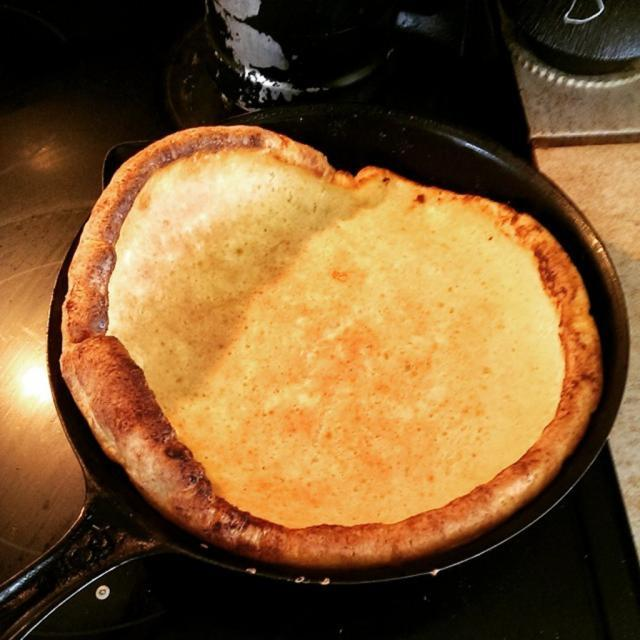Pancake: (58, 124, 601, 564)
